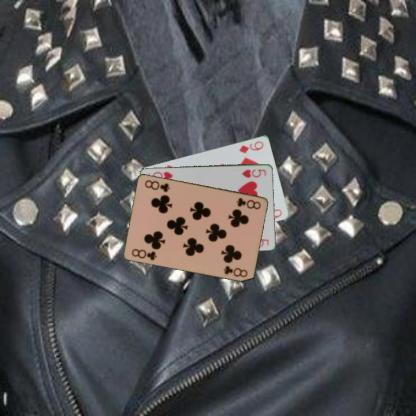5h: (240, 166, 267, 178)
8c: (233, 194, 262, 210), (130, 246, 158, 261)
9d: (237, 138, 265, 154)
